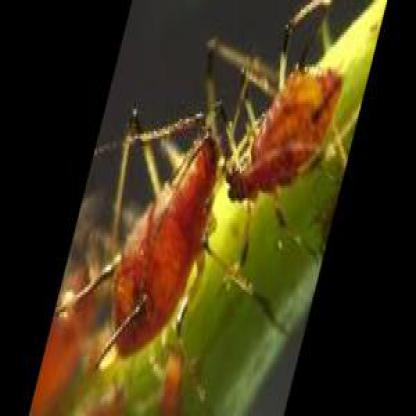uroleucon compositae: (59, 110, 223, 367)
